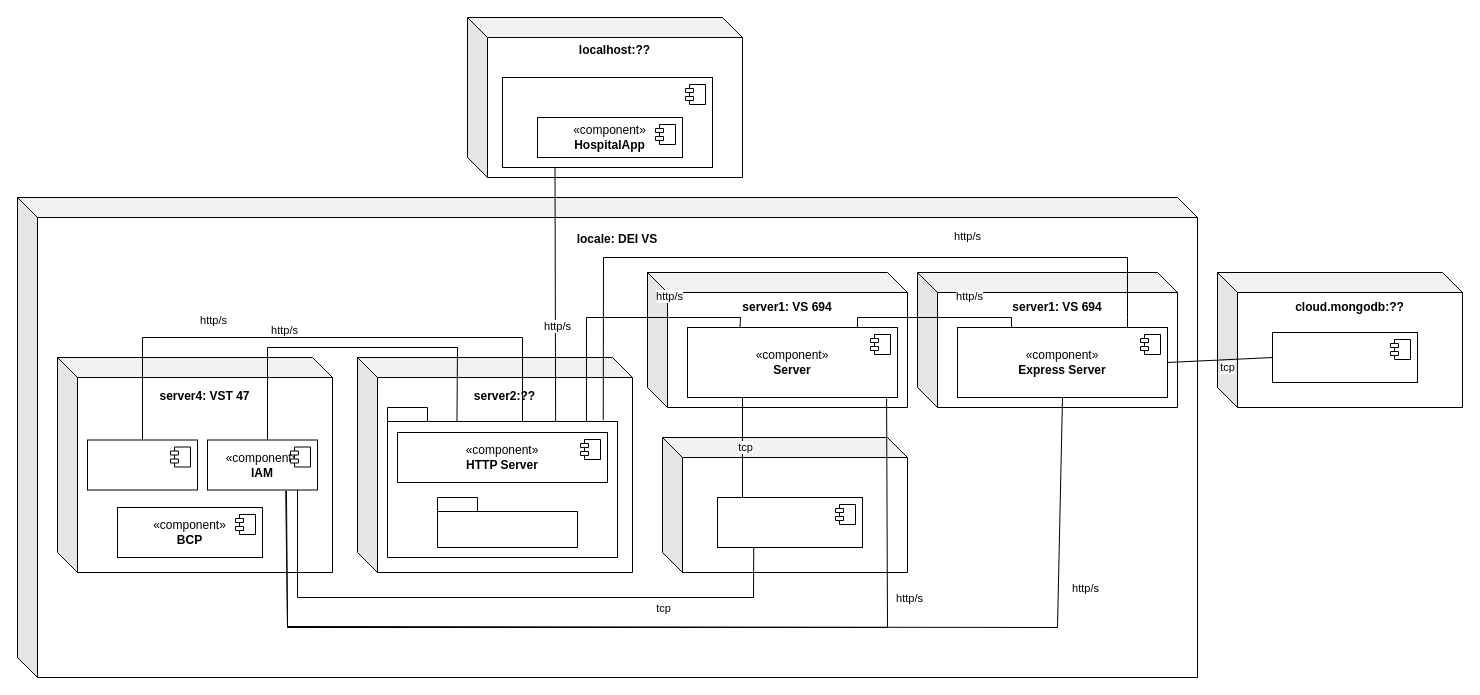
This 1480x695 diagram has some shape labels left out. The shapes that lost their labels are listed below. From the top down, each one's box as (x1, y1, x2, y2) in pixels, then its label:
(502, 76, 712, 168): «component» Browser
(1272, 332, 1418, 382): «component» MongoDB
(86, 439, 198, 490): «component» Planeamento
(436, 496, 578, 548): HospitalApp
(662, 436, 908, 572): server3: VS 1370
(716, 496, 862, 548): «component» SGBD
